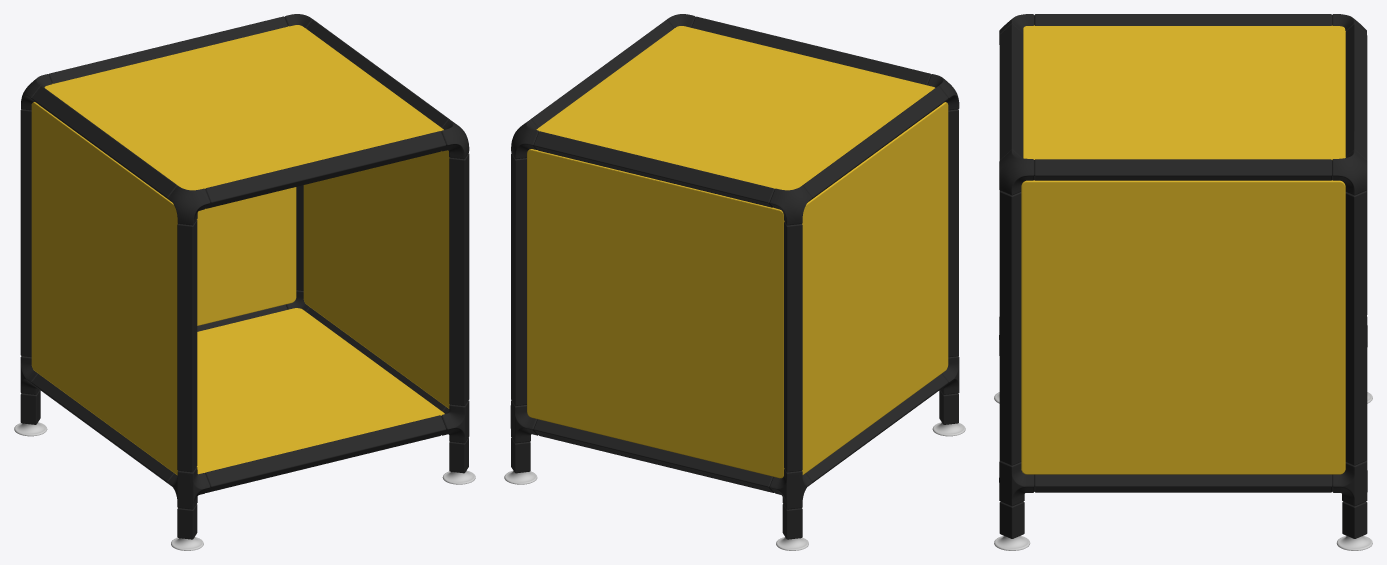
The picture shows the model from 3 angles, left to right: view 1: azimuth 30°, elevation 25°; view 2: azimuth 150°, elevation 25°; view 3: azimuth 270°, elevation 25°; orthographic projection. The views are drawn at different scales.
Parts seen in each view (by area): view 1: 329x329x329; view 2: 329x329x329; view 3: 329x329x329.
Boxes of the visible parts, <box> form: 329x329x329: <box>14,14,475,550</box>; 329x329x329: <box>504,14,965,550</box>; 329x329x329: <box>994,14,1372,550</box>.
Size of the model in its own units: 0.4189 by 0.4683 by 0.4182.
